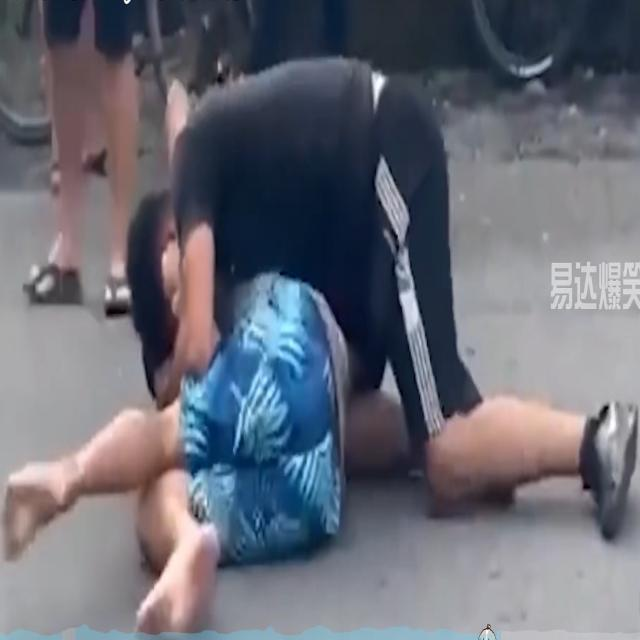fight: (108, 79, 526, 515)
